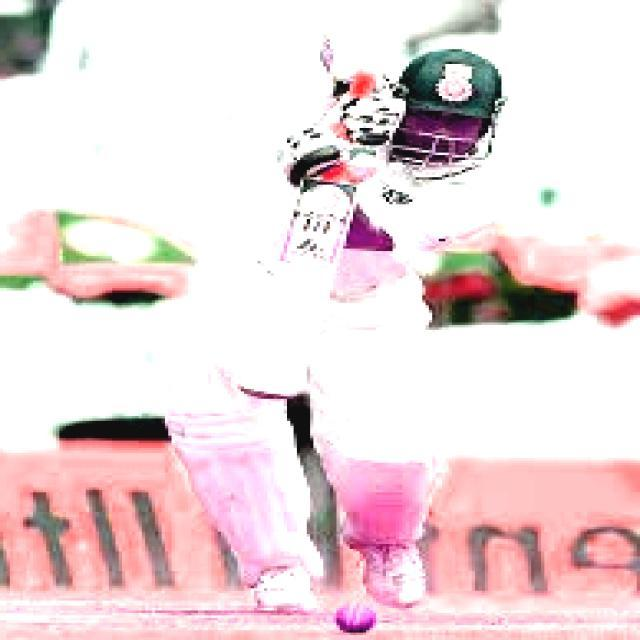bat: (239, 176, 340, 409)
toe: (235, 383, 295, 406)
